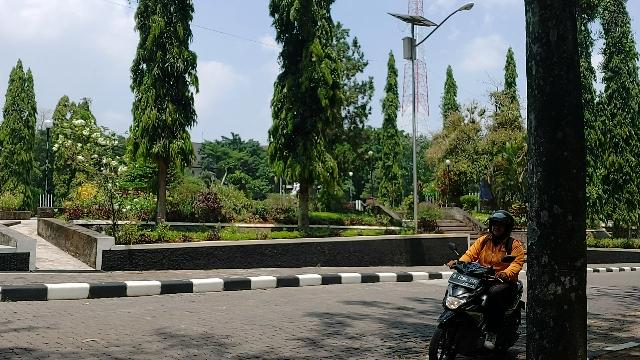helm: (487, 211, 516, 242)
motor: (428, 243, 528, 360)
